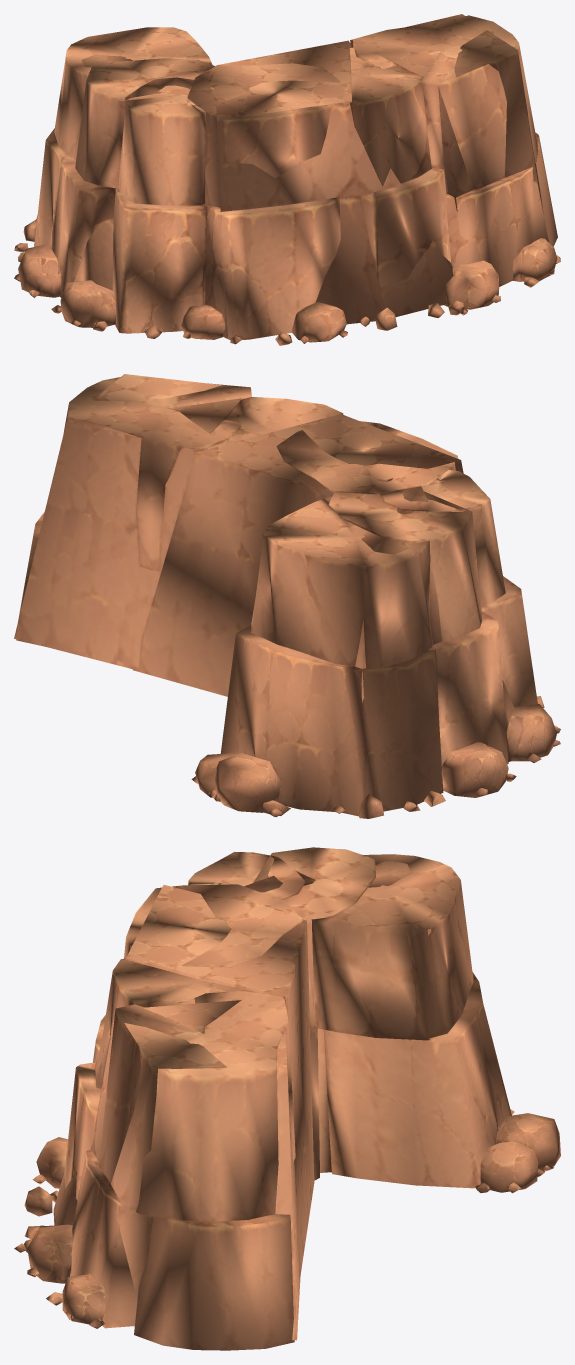
File: Meshy_AI_Sunstone_Mesa_0907105954_texture.fbx
The picture shows the model from 3 angles, top to bottom: view 1: azimuth 30°, elevation 25°; view 2: azimuth 150°, elevation 25°; view 3: azimuth 270°, elevation 25°; orthographic projection. The views are drawn at different scales.
Visible parts, largest first — view 1: mesh_node; view 2: mesh_node; view 3: mesh_node.
Part boxes in pixels (x1,y1,x2,y2): mesh_node: (14, 14, 560, 345); mesh_node: (14, 374, 560, 818); mesh_node: (14, 847, 560, 1350).
Bounding box in the file's own units: 1191 × 500 × 965.
1 material, 1 textured.
